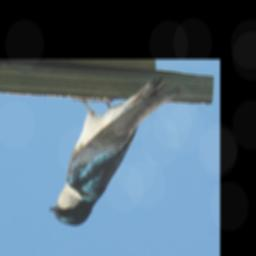Swallow: (48, 75, 184, 227)
